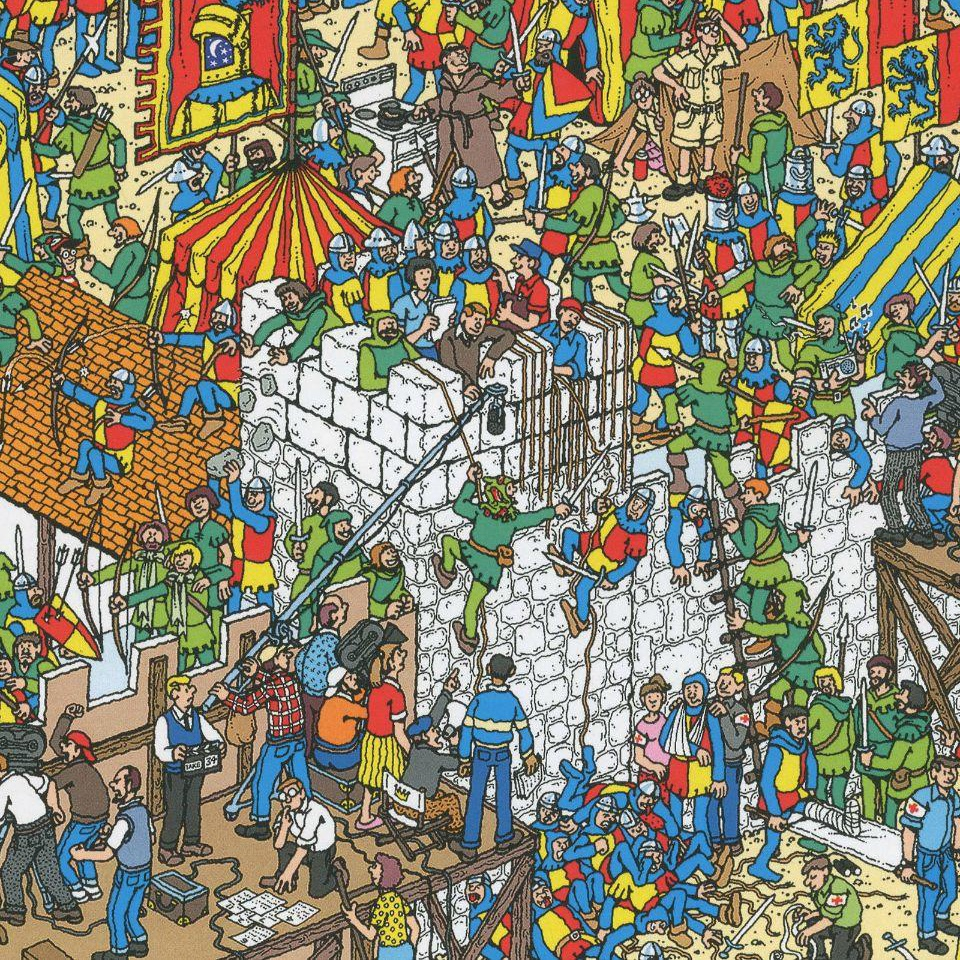waldo: (46, 236, 84, 275)
